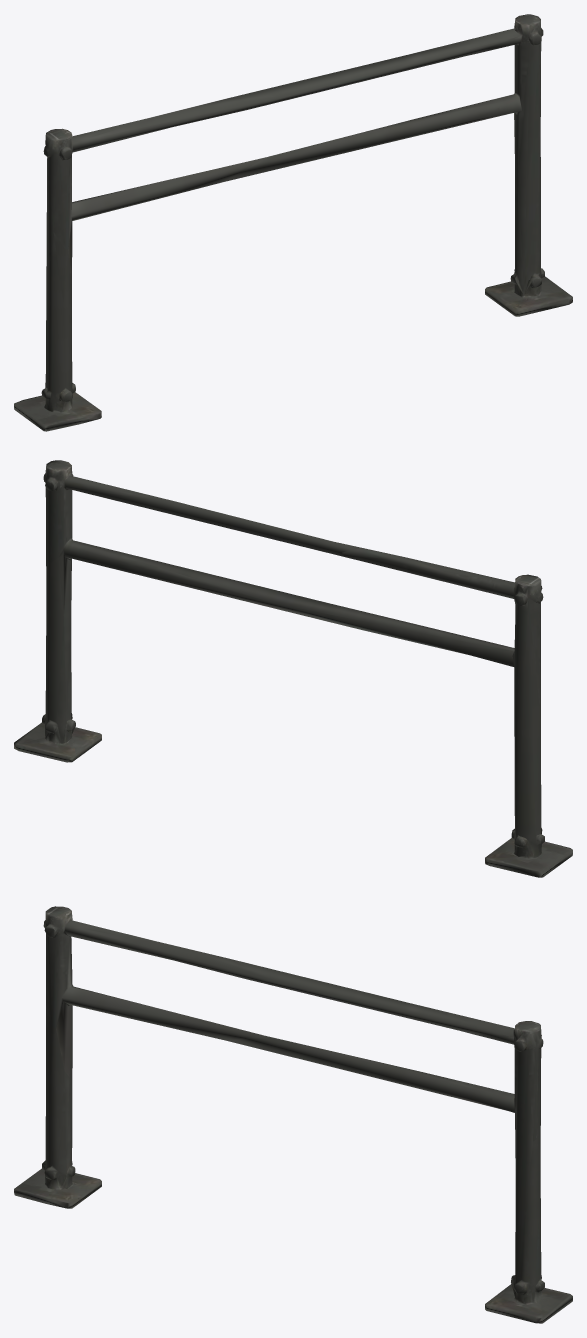
3 views of the same model, one above another, from view 1: azimuth 30°, elevation 25°; view 2: azimuth 150°, elevation 25°; view 3: azimuth 330°, elevation 25° (orthographic).
Bounding box in the file's own units: 1.9 × 0.9559 × 0.2055.
Materials: 1 (1 with a texture image).
